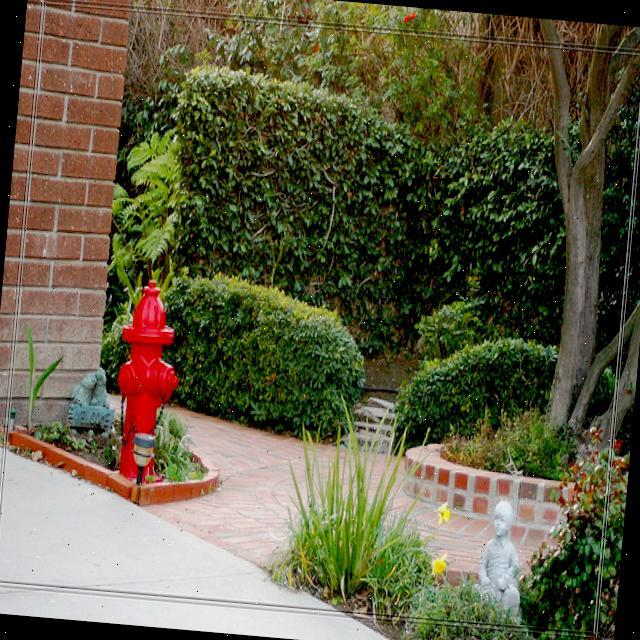fire_hydrant: (107, 274, 187, 486)
